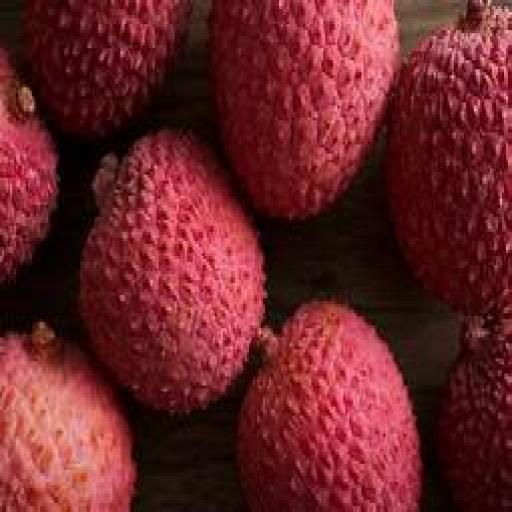lychee: (81, 130, 265, 412), (211, 0, 399, 219), (386, 0, 511, 313), (237, 302, 421, 511), (0, 326, 134, 511), (25, 0, 190, 138), (438, 317, 511, 511), (0, 49, 58, 283)
